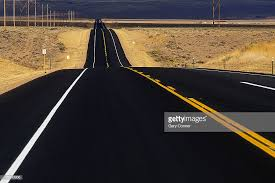strada: (1, 1, 273, 175)
